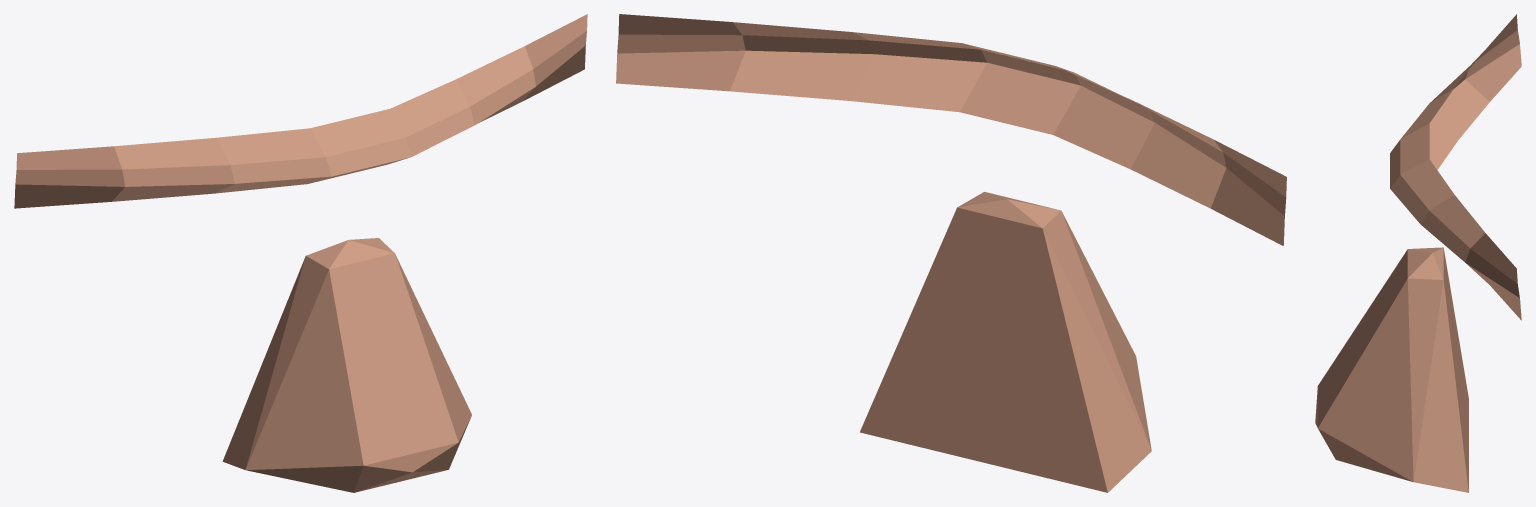
File: nose_gl_big.glb
3 renders of one model, left to right at view 1: azimuth 30°, elevation 25°; view 2: azimuth 150°, elevation 25°; view 3: azimuth 270°, elevation 25°, orthographic. The views are drawn at different scales.
Parts seen in each view (by area): view 1: Snout; view 2: Snout; view 3: Snout.
Part boxes in pixels (box(x1,y1,x2,y2)): Snout: box(14, 14, 587, 492); Snout: box(616, 14, 1286, 492); Snout: box(1315, 14, 1521, 492).
Size of the model in its own units: 0.156 by 0.087 by 0.0535.
Materials: 1 (1 with a texture image).
